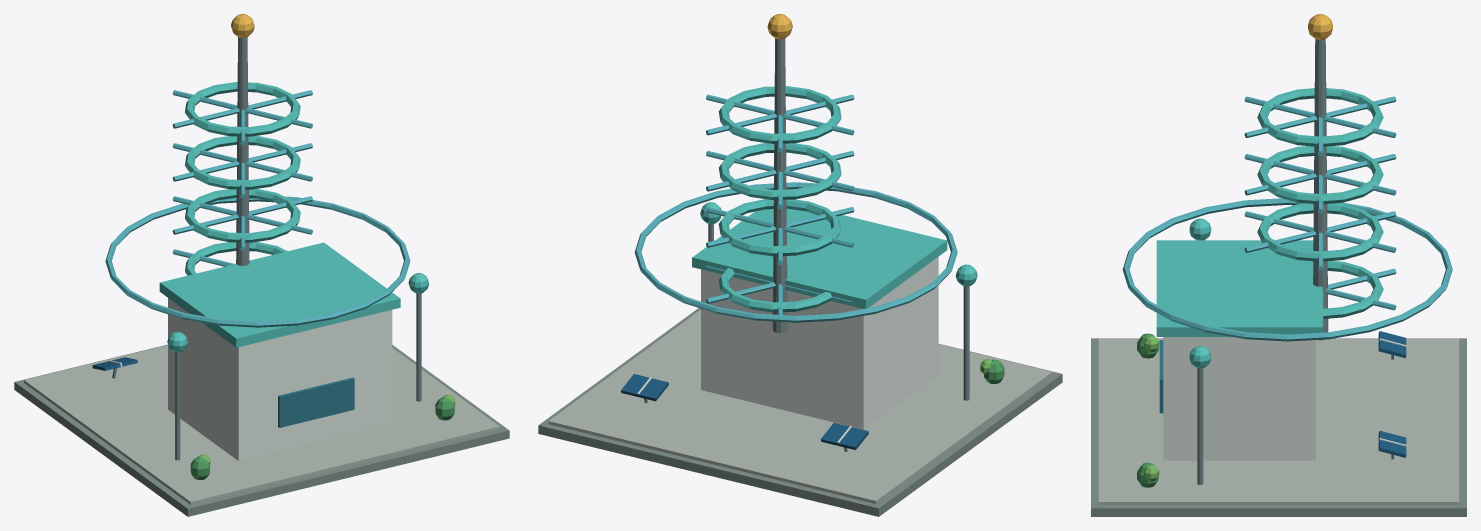
The model's file is uv_station_lv4.glb.
3 views of the same model, side by side, from view 1: azimuth 30°, elevation 25°; view 2: azimuth 150°, elevation 25°; view 3: azimuth 270°, elevation 25° (orthographic). The views are drawn at different scales.
Visible parts, largest first — view 1: concrete, white, turquoise, glass, pavement, steel, glassDark, green; view 2: concrete, white, turquoise, glass, pavement, steel, solar; view 3: concrete, turquoise, white, glass, pavement, steel, solar, gold, green, foliage.
Boxes of the visible parts, box(x1,y1,x2,y2) form: concrete: box(24, 345, 499, 504); white: box(108, 298, 392, 460); turquoise: box(159, 82, 429, 352); glass: box(105, 90, 410, 327); pavement: box(14, 344, 509, 516); steel: box(112, 37, 421, 460); glassDark: box(278, 377, 354, 427); green: box(190, 397, 454, 479); concrete: box(548, 310, 1052, 503); white: box(637, 257, 938, 443); turquoise: box(692, 86, 977, 312); glass: box(634, 94, 957, 322); pavement: box(538, 308, 1062, 516); steel: box(644, 38, 969, 451); solar: box(621, 374, 868, 449); concrete: box(1098, 338, 1459, 504); turquoise: box(1156, 88, 1383, 368); white: box(1163, 337, 1406, 460); glass: box(1122, 96, 1452, 341); pavement: box(1091, 338, 1466, 516); steel: box(1197, 39, 1393, 484); solar: box(1378, 331, 1406, 457); gold: box(1308, 14, 1332, 39); green: box(1137, 333, 1158, 487); foliage: box(1143, 335, 1159, 481).
Bounding box in the file's own units: 9.2 × 10.53 × 8.6.
